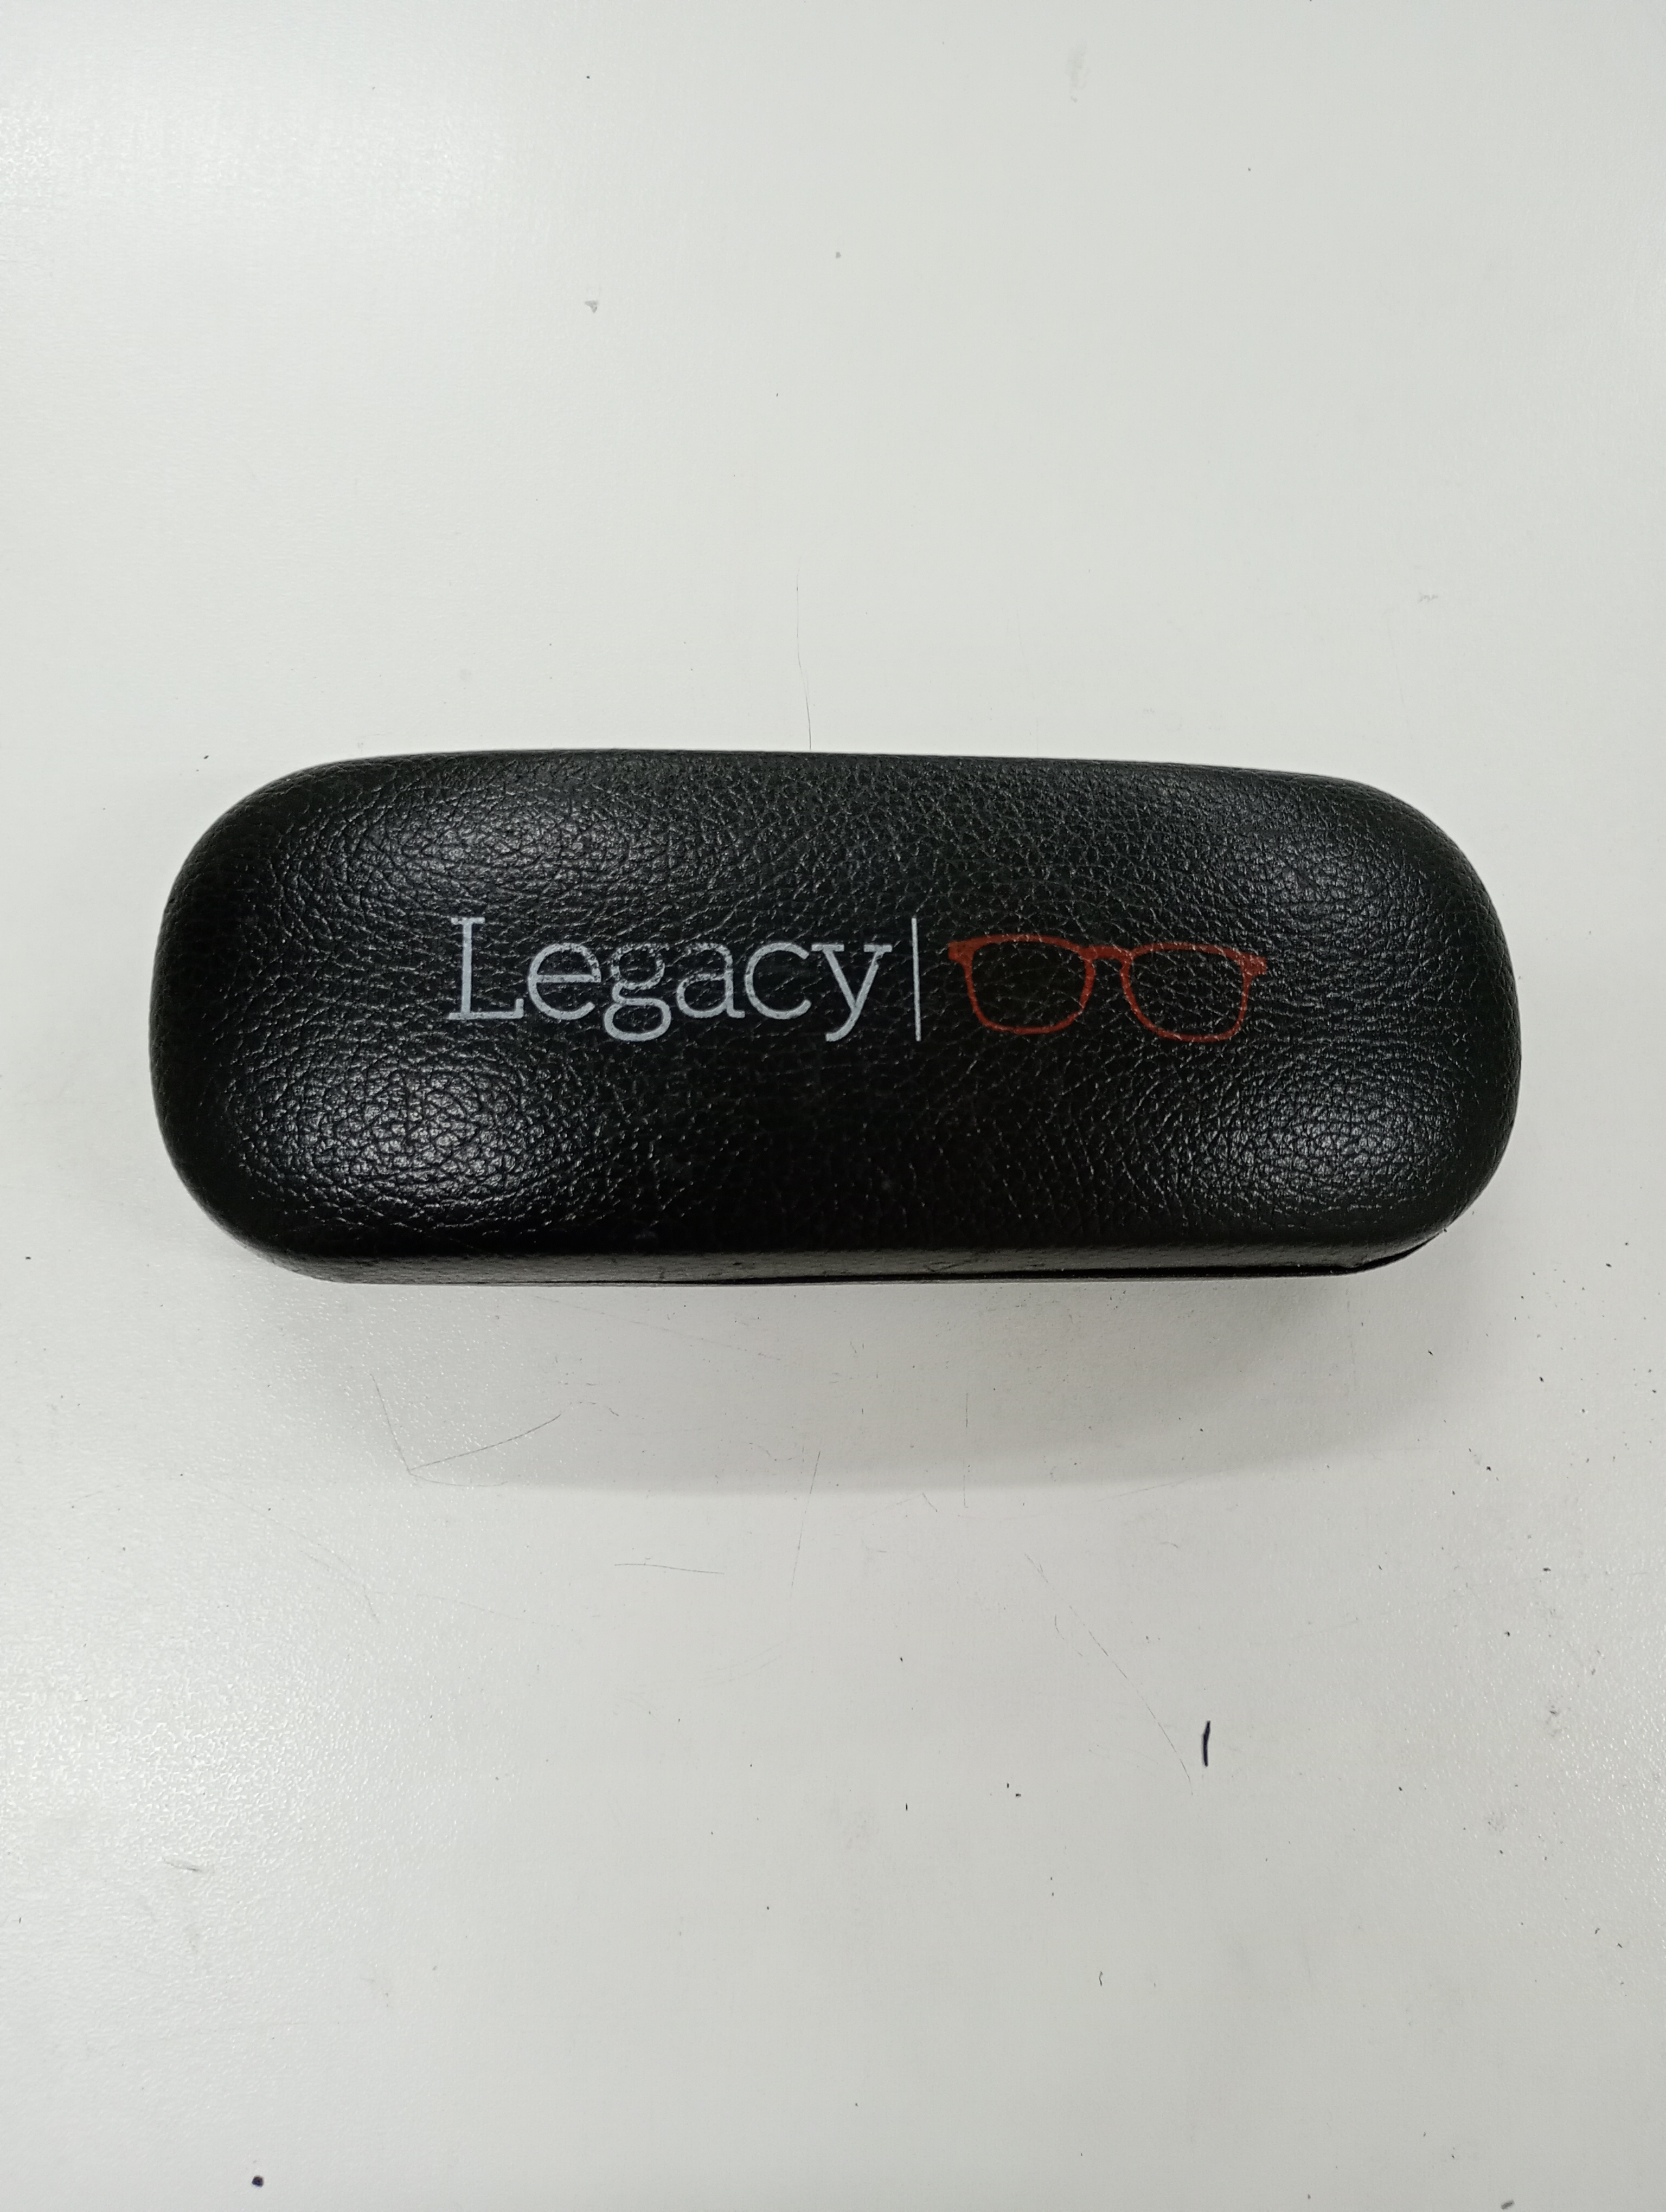estuche: (135, 726, 1533, 1306)
